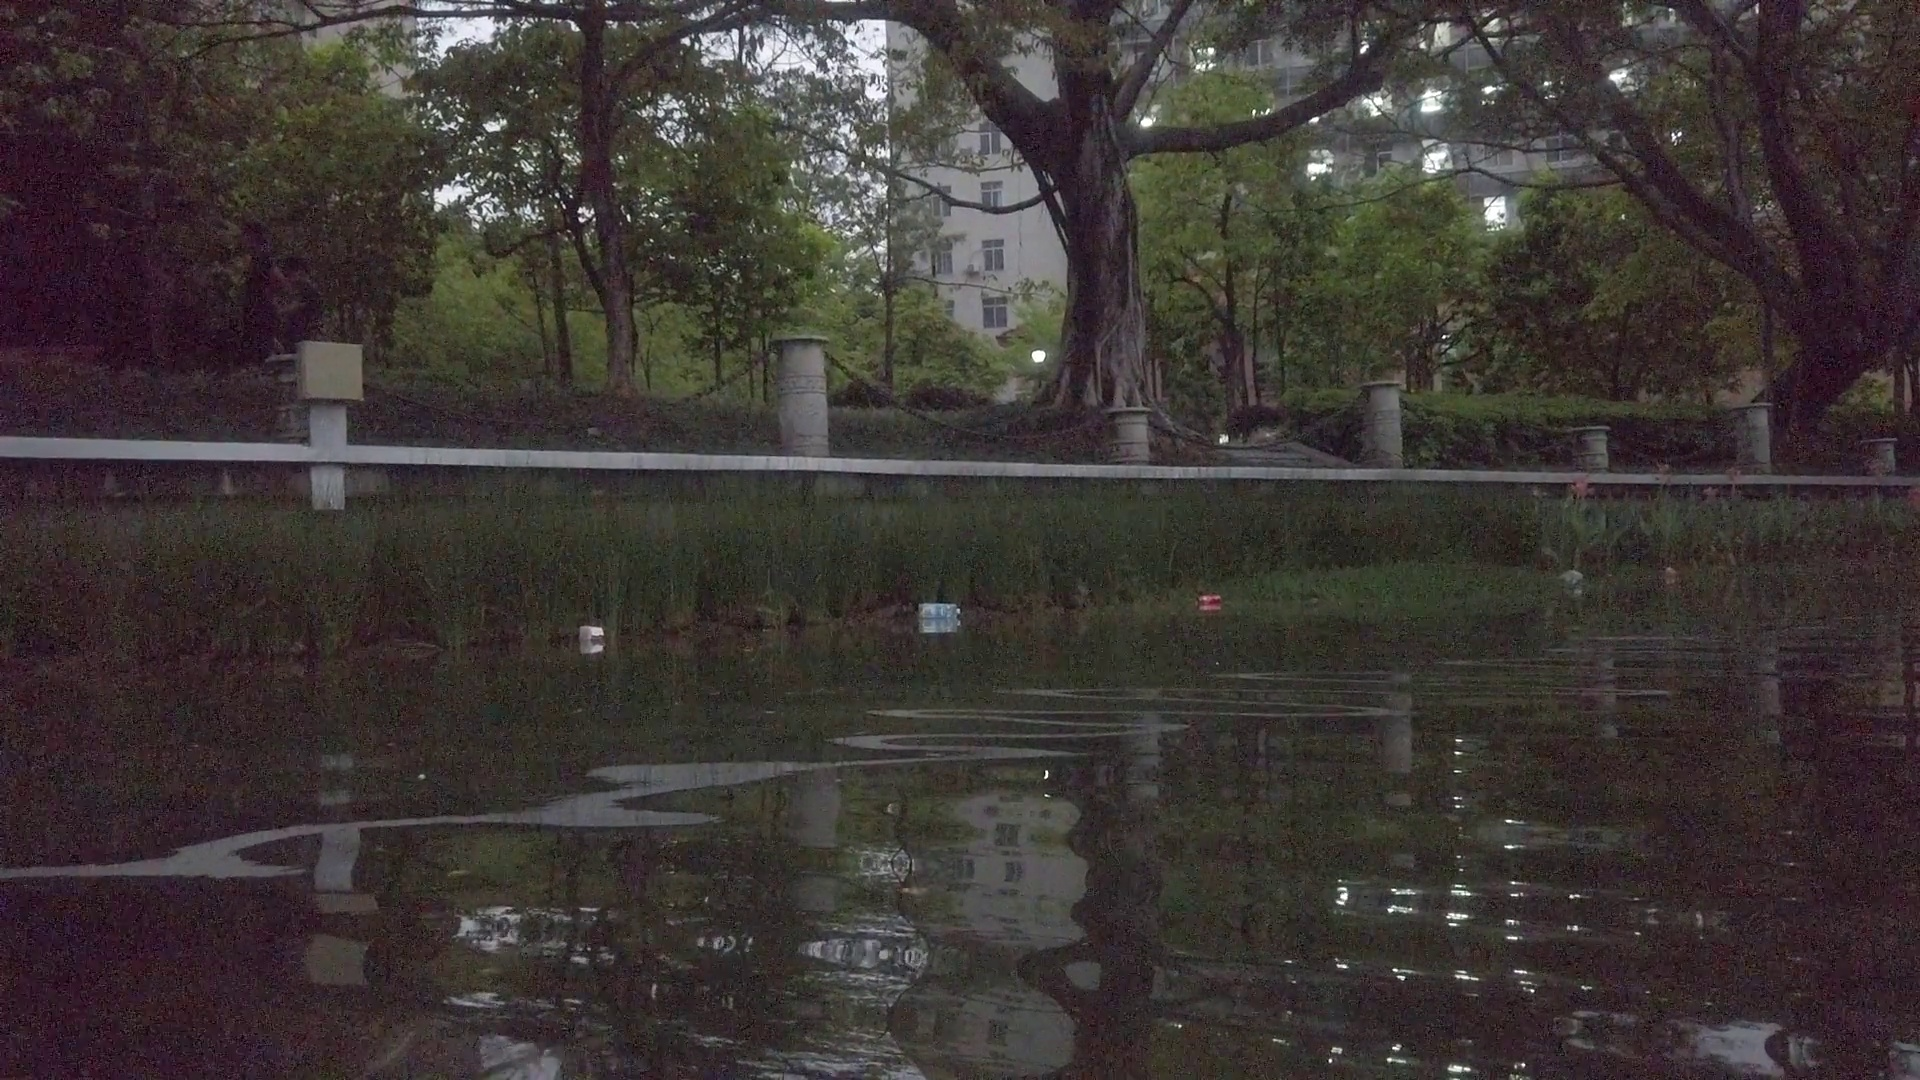bottle: (1556, 567, 1592, 589), (1660, 564, 1683, 582), (1197, 593, 1221, 607)
carton: (916, 603, 959, 617), (578, 625, 604, 644)
